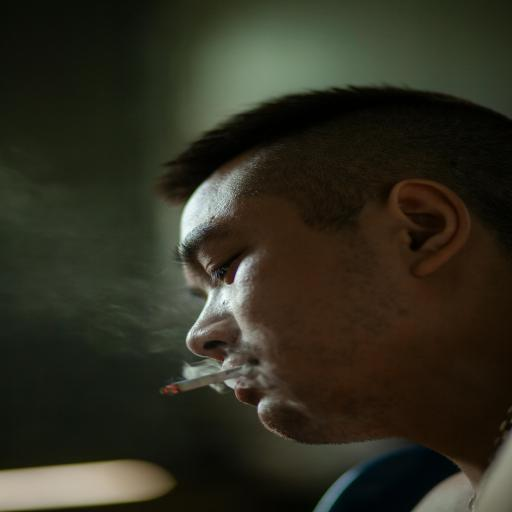terdeteksi merokok: (120, 214, 318, 426)
